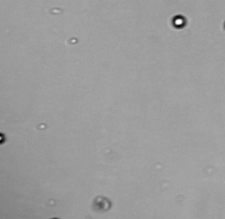Dead Cell: (92, 197, 112, 211)
Living Cell: (172, 15, 187, 28), (1, 133, 5, 145)
